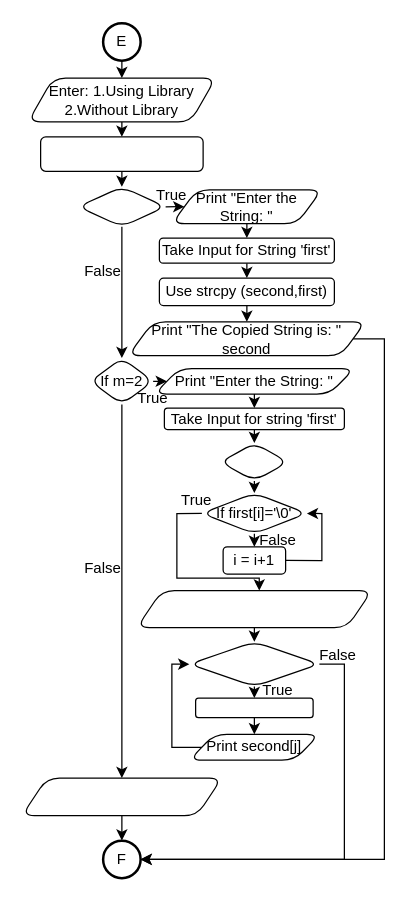
Image size: 416x900. Some labels were removed from this diagram. Each missing label, with the centre of its shape:
for j=0, j<i, j=j+1: point 253,663
If m=1: point 121,206
Print "Enter Valid Input": point 121,796
Print "The String is of i Characters and is Copied as: ": point 254,608
second[j]=first[j]: point 253,707
Take Input for Integer 'm': point 121,153
While 2: point 253,461
